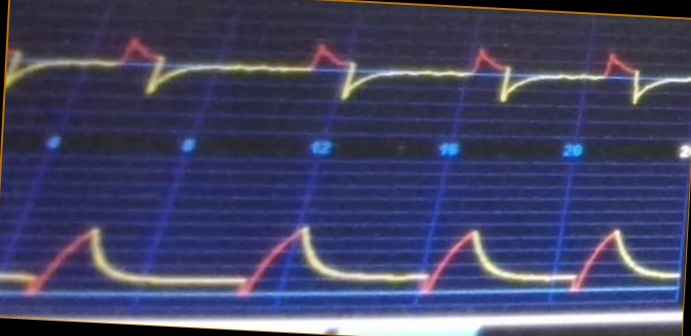Flow: (9, 25, 663, 130)
Leakage Volume: (1, 206, 672, 304)
